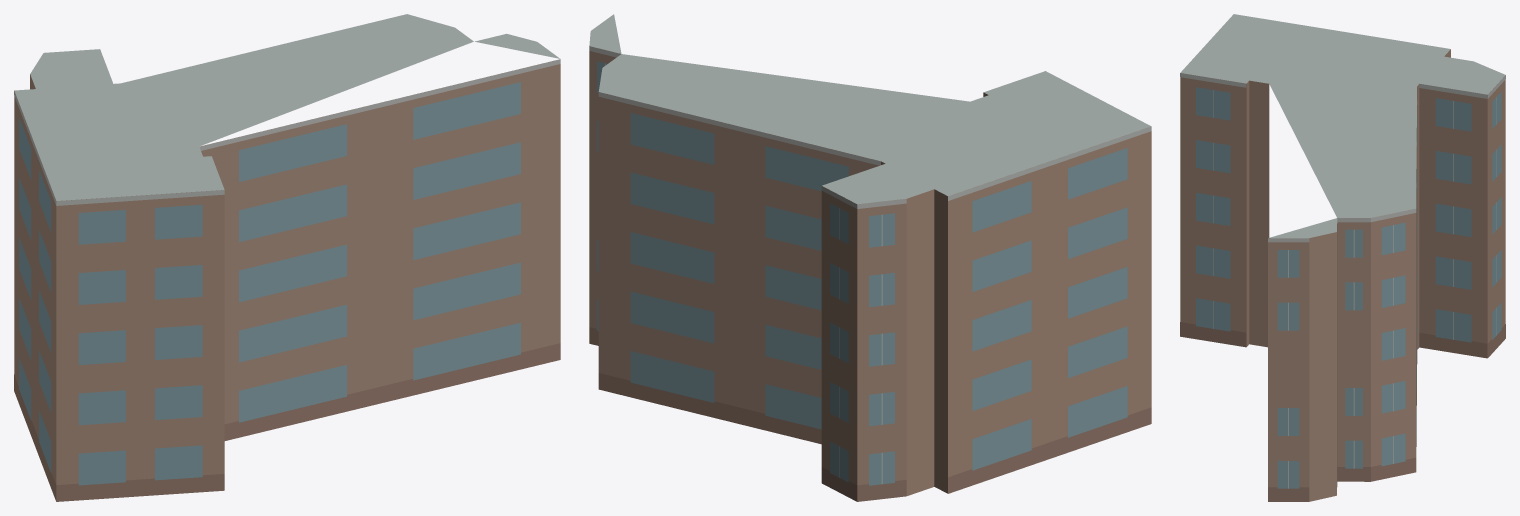
The model's file is survey-upis-33039399.glb.
3 views of the same model, side by side, from view 1: azimuth 30°, elevation 25°; view 2: azimuth 150°, elevation 25°; view 3: azimuth 270°, elevation 25° (orthographic). The views are drawn at different scales.
Visible parts, largest first — view 1: survey-upis-33039399.tmp; view 2: survey-upis-33039399.tmp; view 3: survey-upis-33039399.tmp.
Boxes of the visible parts, x1=… form: survey-upis-33039399.tmp: x1=14, y1=14, x2=560, y2=501; survey-upis-33039399.tmp: x1=589, y1=14, x2=1151, y2=501; survey-upis-33039399.tmp: x1=1180, y1=14, x2=1505, y2=501.
Bounding box in the file's own units: 27.72 × 15.2 × 17.02.
